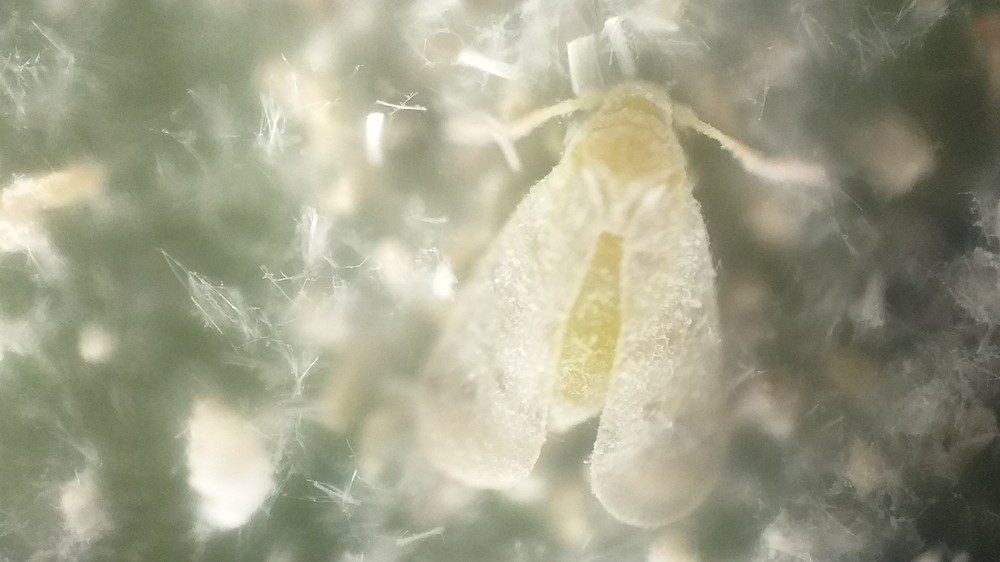Mosca Blanca: (389, 70, 866, 535)
